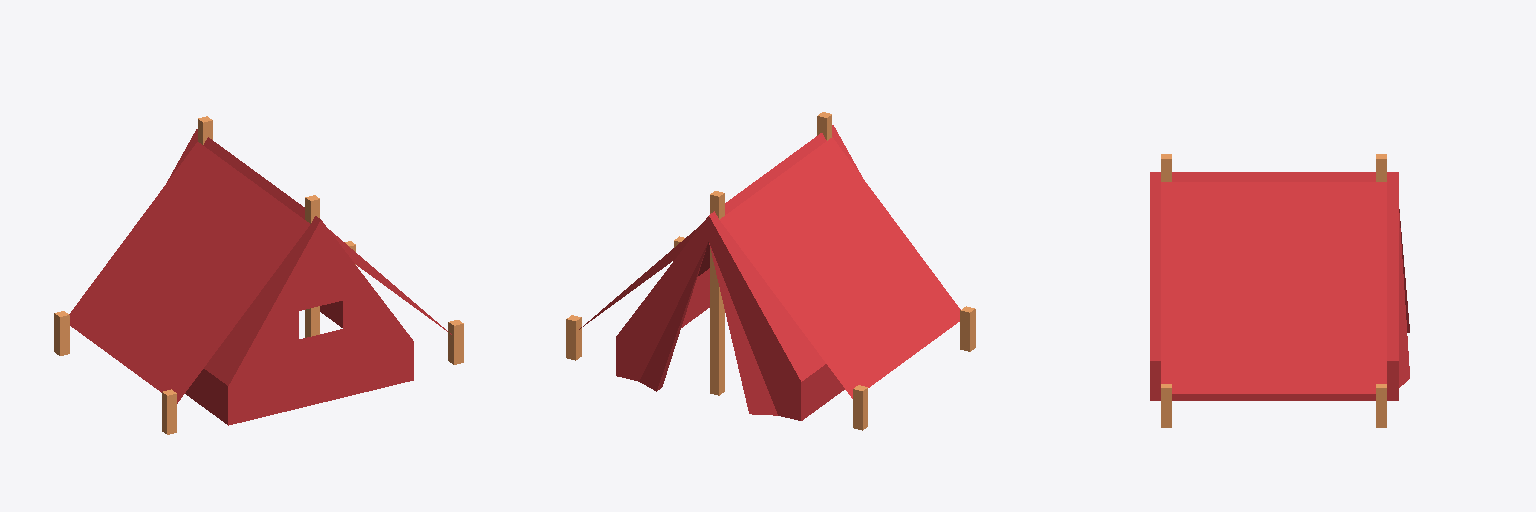
File: tent_detailedOpen.obj
3 renders of one model, left to right at view 1: azimuth 30°, elevation 25°; view 2: azimuth 150°, elevation 25°; view 3: azimuth 270°, elevation 25°, orthographic.
Parts seen in each view (by area): view 1: tent_detailedOpen; view 2: tent_detailedOpen; view 3: tent_detailedOpen.
Part boxes in pixels (bbox=[...]): tent_detailedOpen: bbox=[54, 116, 463, 434]; tent_detailedOpen: bbox=[566, 112, 975, 430]; tent_detailedOpen: bbox=[1150, 154, 1409, 427].
Size of the model in its own units: 8.75 by 5.61 by 6.66.